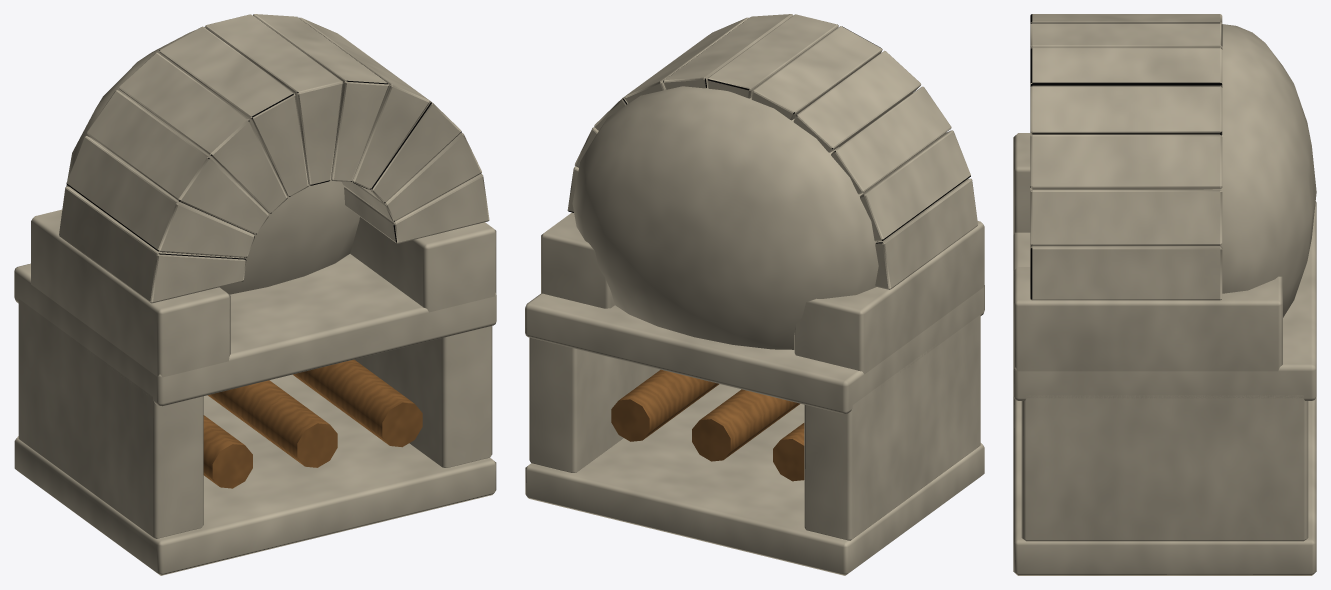
Rendered from Furn_Oven.fbx.
3 views of the same model, side by side, from view 1: azimuth 30°, elevation 25°; view 2: azimuth 150°, elevation 25°; view 3: azimuth 270°, elevation 25° (orthographic). The views are drawn at different scales.
Parts seen in each view (by area): view 1: Furn_Oven_Mesh; view 2: Furn_Oven_Mesh; view 3: Furn_Oven_Mesh.
Boxes of the visible parts, <box> form: Furn_Oven_Mesh: <box>14,14,496,575</box>; Furn_Oven_Mesh: <box>525,14,984,575</box>; Furn_Oven_Mesh: <box>1013,14,1316,575</box>.
Bounding box in the file's own units: 1.2 × 1.5 × 0.9.
2 materials, 2 textured.
